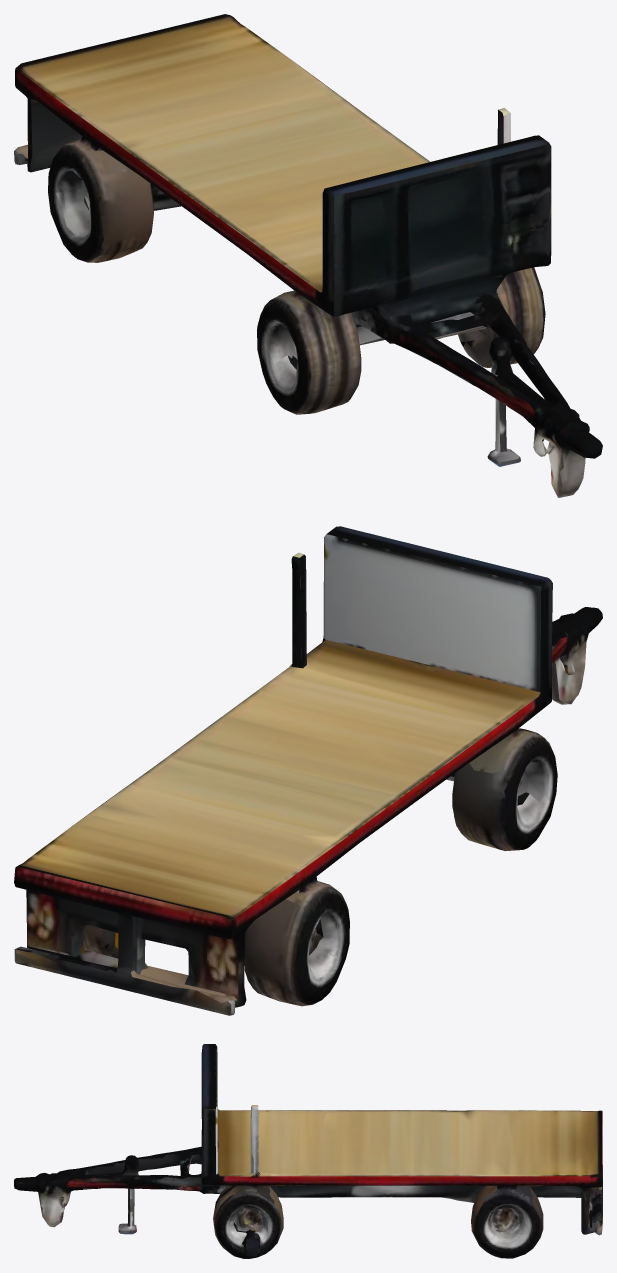
The model's file is ultra_flatbed3d.glb.
3 renders of one model, top to bottom at view 1: azimuth 30°, elevation 25°; view 2: azimuth 150°, elevation 25°; view 3: azimuth 270°, elevation 25°, orthographic. The views are drawn at different scales.
Parts seen in each view (by area): view 1: tmpo5l1y63k.ply; view 2: tmpo5l1y63k.ply; view 3: tmpo5l1y63k.ply.
Boxes of the visible parts, x1,y1,x2,y2 form: tmpo5l1y63k.ply: (14, 14, 602, 497); tmpo5l1y63k.ply: (14, 526, 602, 1015); tmpo5l1y63k.ply: (14, 1044, 602, 1258).
Size of the model in its own units: 0.6114 by 0.5728 by 1.95.
Materials: 1 (1 with a texture image).
